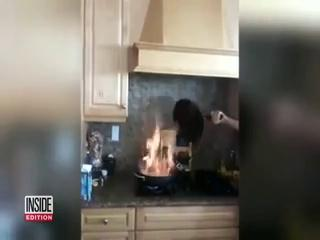Fire: (138, 93, 184, 178)
